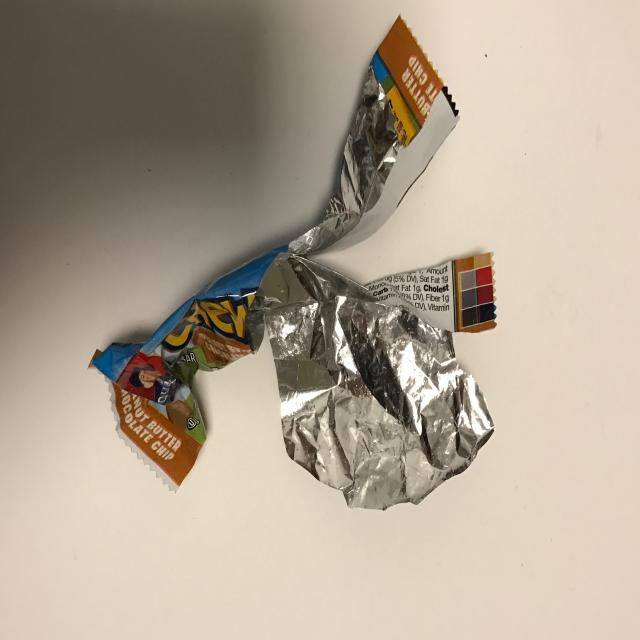trash: (75, 19, 518, 516)
